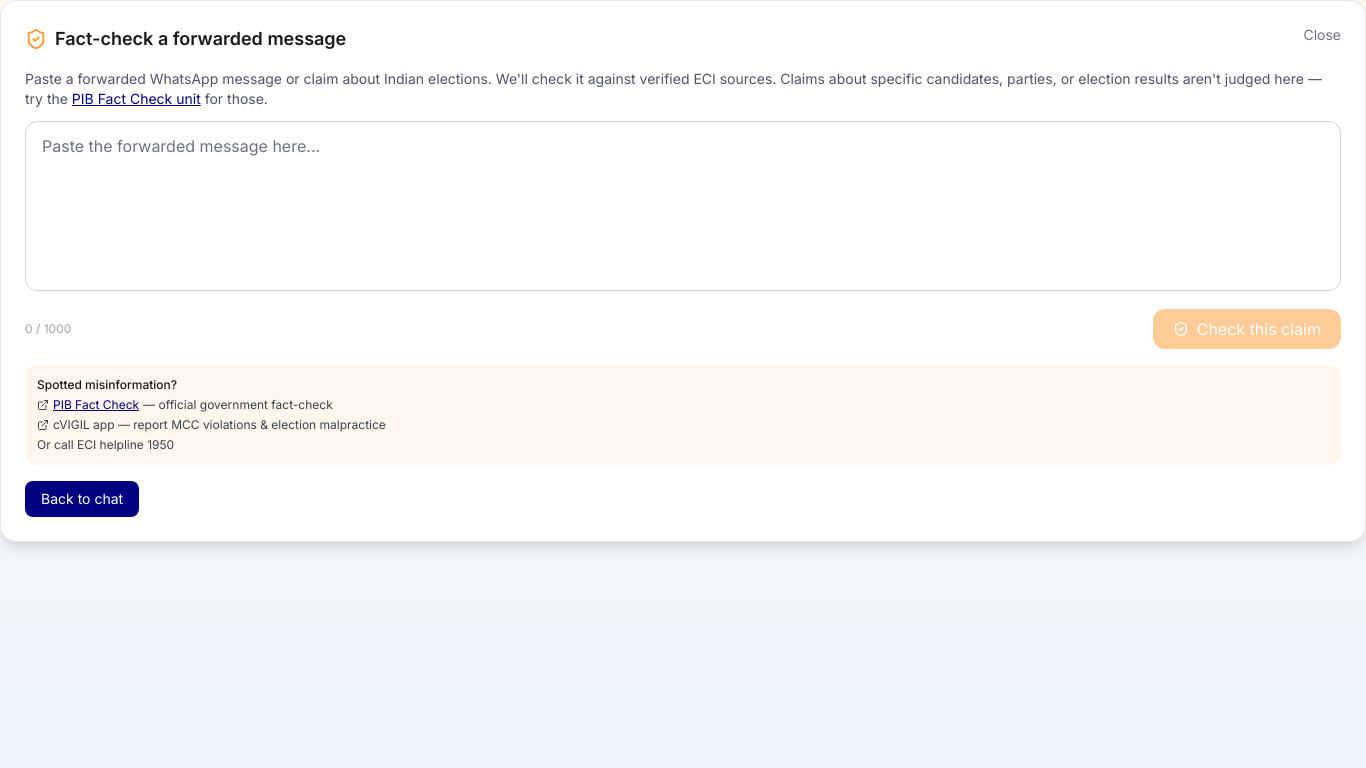
Test case: FactChecker › shows a red error banner when the backend fails
Type "something" into the text box with placeholder "Paste the forwarded message here...".
click(683, 206); type("something")  # box x1=25 y1=121 x2=1341 y2=291
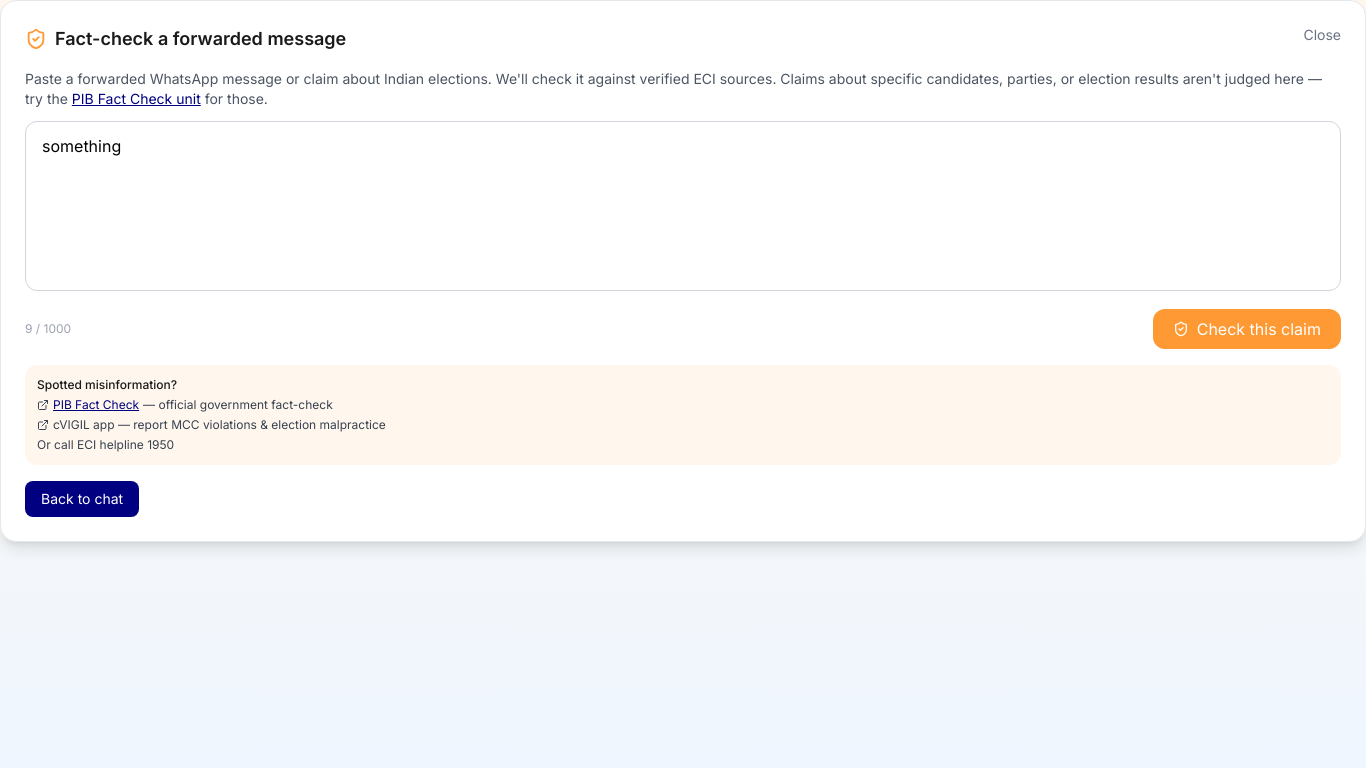
Click the button "Check this claim".
click(1247, 329)  # box x1=1153 y1=309 x2=1341 y2=349
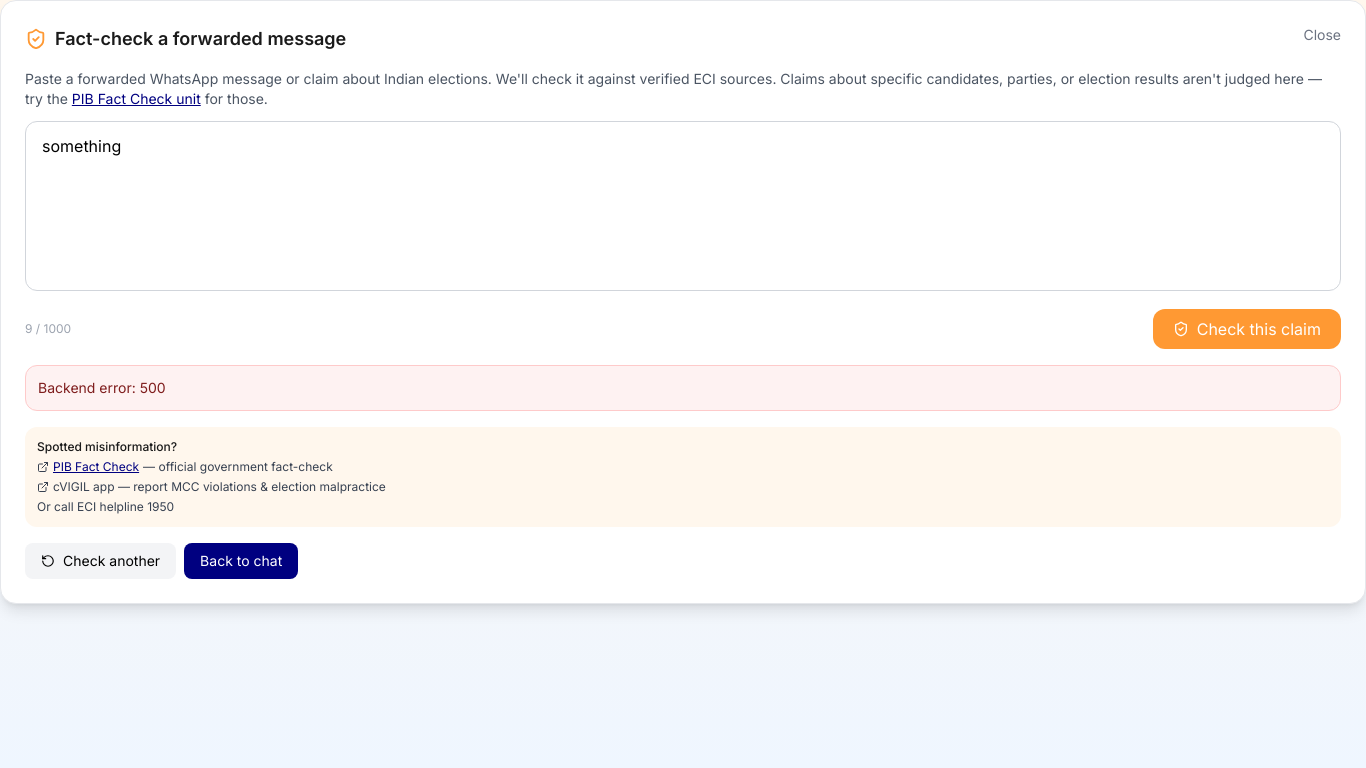
Result: the message "Backend error: 500" is shown at x1=25 y1=365 x2=1341 y2=411
Result: the message reads "Backend error: 500" at x1=38 y1=379 x2=166 y2=396
